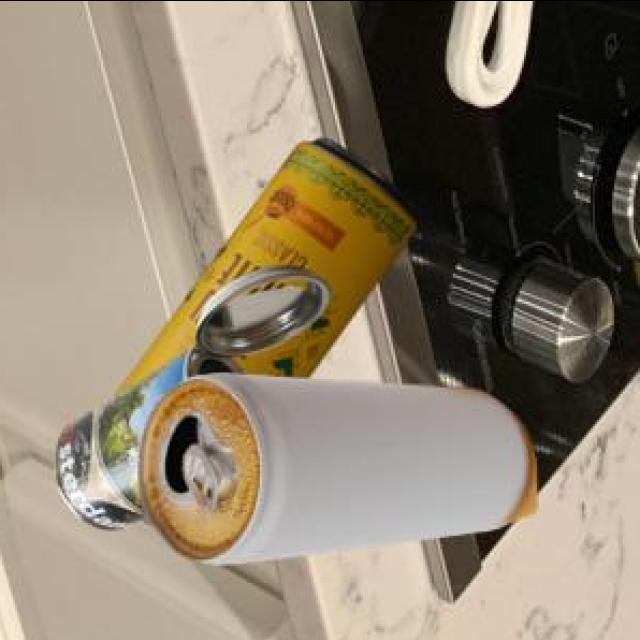logam: (143, 368, 540, 559), (123, 134, 420, 387), (59, 263, 334, 525)
